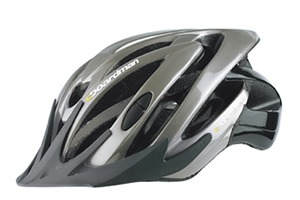helmet: (44, 40, 274, 165)
